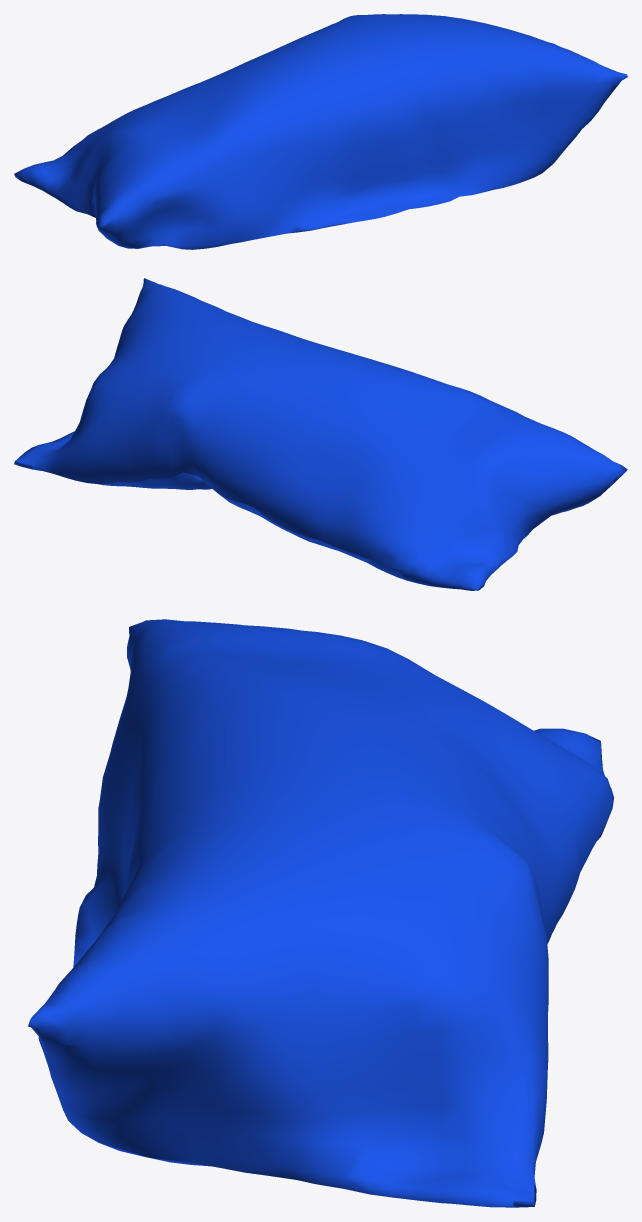
The model's file is SM_Sandbags03.FBX.
The picture shows the model from 3 angles, top to bottom: view 1: azimuth 30°, elevation 25°; view 2: azimuth 150°, elevation 25°; view 3: azimuth 270°, elevation 25°; orthographic projection. The views are drawn at different scales.
Parts seen in each view (by area): view 1: SM_Sandbags03; view 2: SM_Sandbags03; view 3: SM_Sandbags03.
Boxes of the visible parts, box(x1,y1,x2,y2) form: SM_Sandbags03: box(14, 14, 627, 249); SM_Sandbags03: box(14, 278, 627, 590); SM_Sandbags03: box(28, 619, 613, 1207).
Size of the model in its own units: 186 by 50.32 by 93.38.
